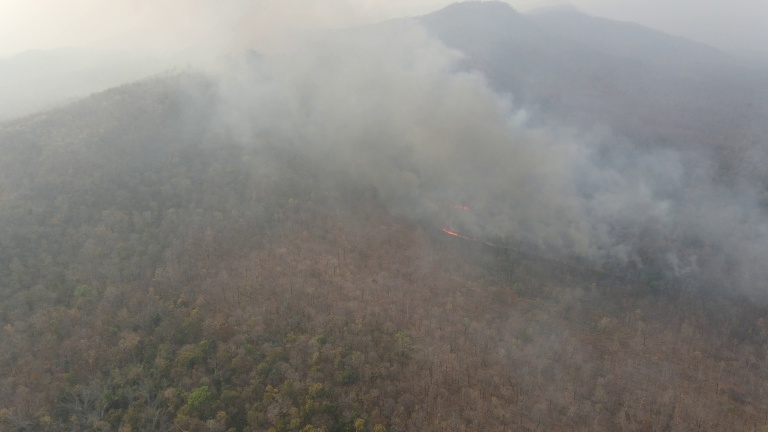fire: (439, 224, 493, 247), (447, 201, 474, 214)
smoke: (192, 1, 620, 255)
